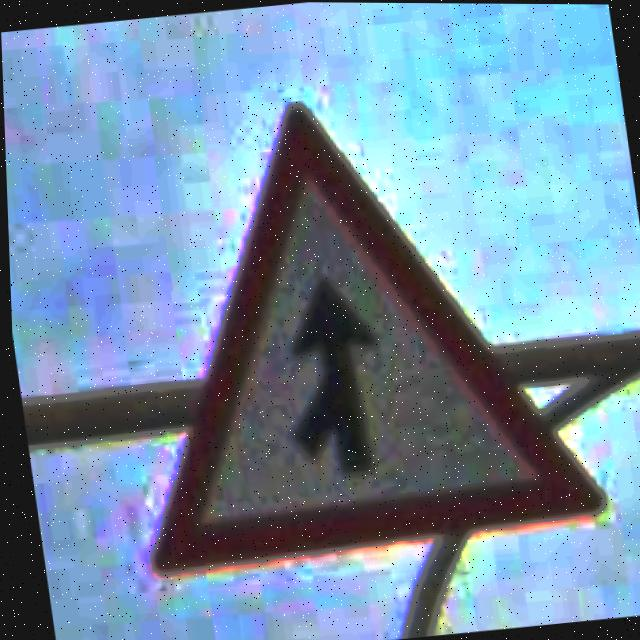leftmerge: (84, 73, 605, 576)
